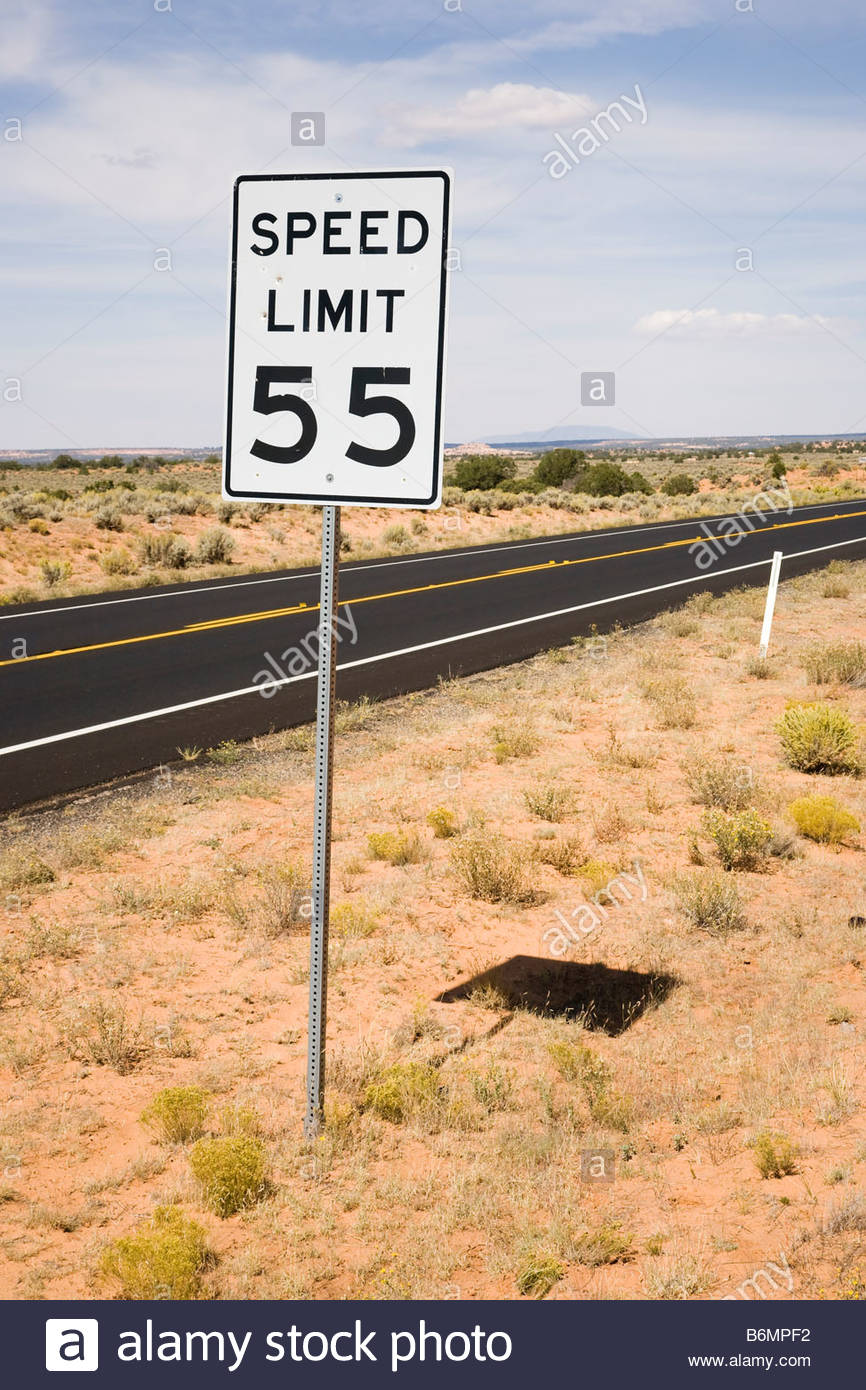speed limit: (206, 141, 458, 547)
